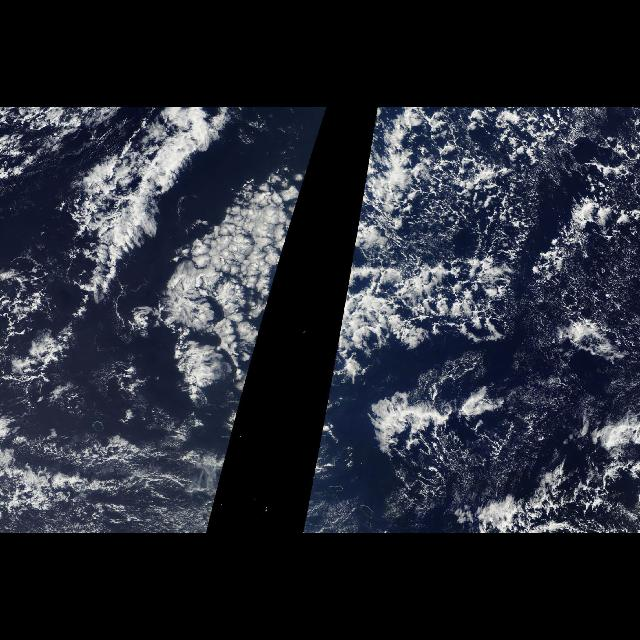Fish: (61, 133, 221, 293)
Flower: (146, 149, 314, 391), (328, 181, 392, 391)
Gravel: (378, 107, 640, 373)
